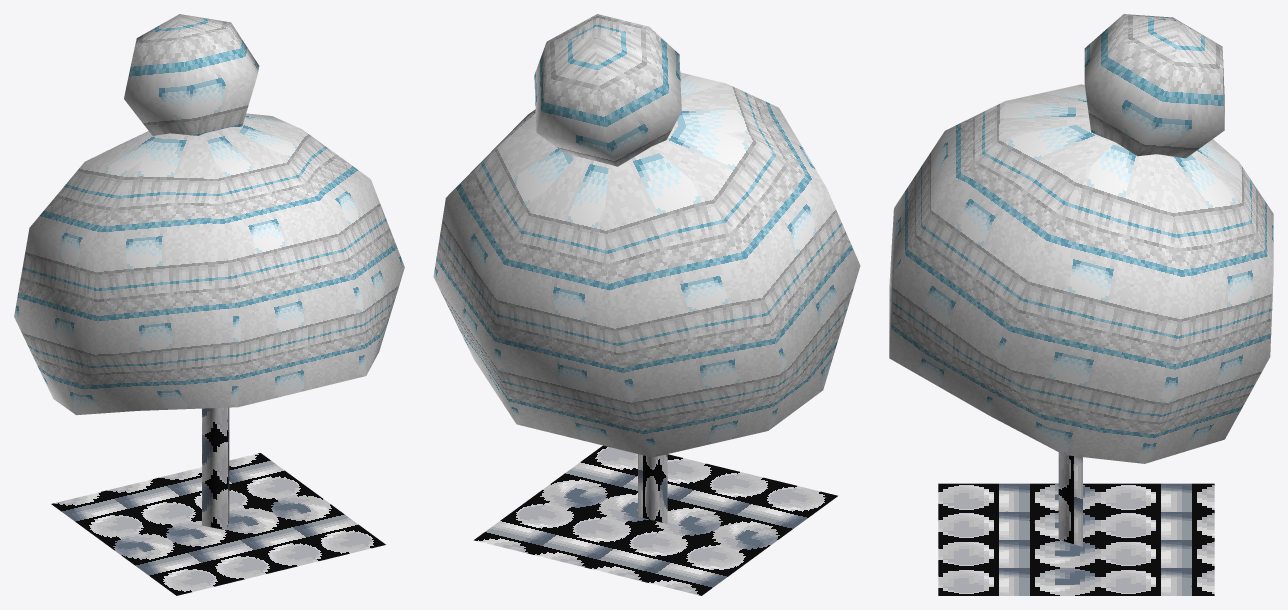
Rendered from 2891head026_c.gltf.
3 renders of one model, left to right at view 1: azimuth 30°, elevation 25°; view 2: azimuth 150°, elevation 25°; view 3: azimuth 270°, elevation 25°, orthographic. The views are drawn at different scales.
Visible parts, largest first — view 1: 2891head026_c; view 2: 2891head026_c; view 3: 2891head026_c.
Boxes of the visible parts, x1,y1,x2,y2 form: 2891head026_c: (14, 14, 404, 595); 2891head026_c: (433, 14, 860, 595); 2891head026_c: (889, 14, 1273, 595).
Size of the model in its own units: 0.708 by 1.01 by 0.6685.
2 materials, 2 textured.
